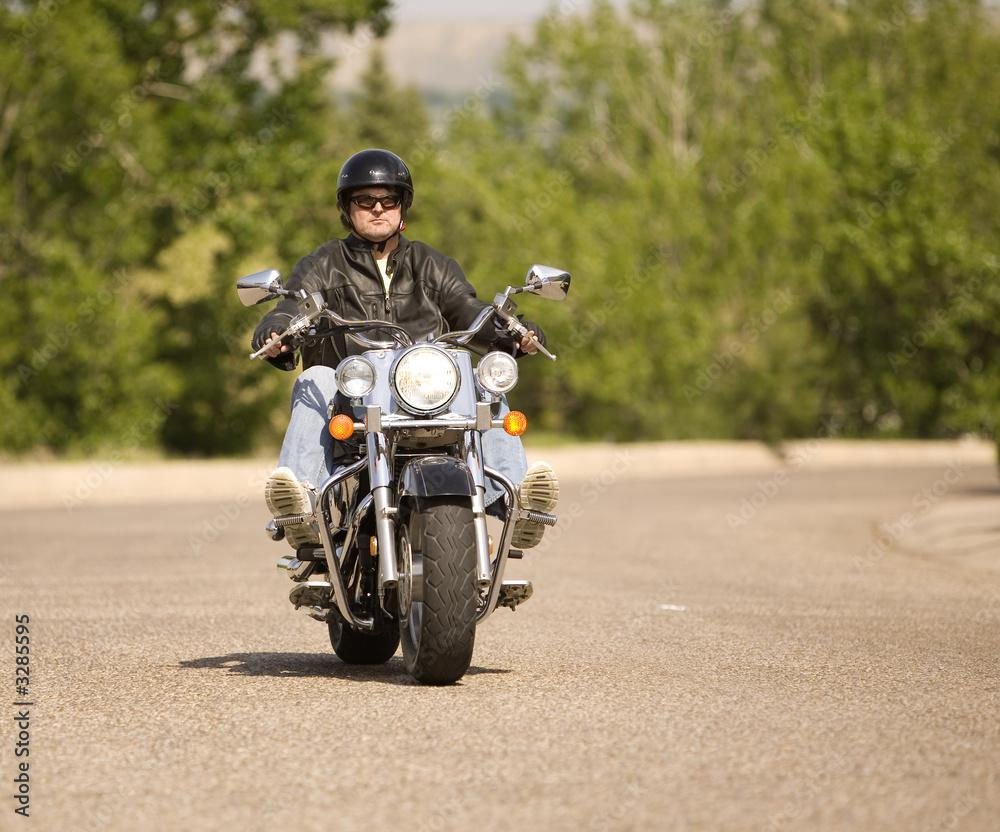helmet: (336, 148, 415, 254)
